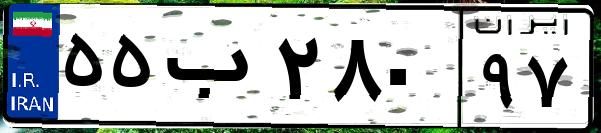0: (385, 28, 445, 110)
2: (270, 28, 330, 110)
5: (57, 26, 110, 100), (110, 28, 158, 98)
7: (525, 38, 570, 115)
8: (330, 28, 385, 110)
9: (475, 38, 525, 113)
ب: (158, 20, 270, 120)
